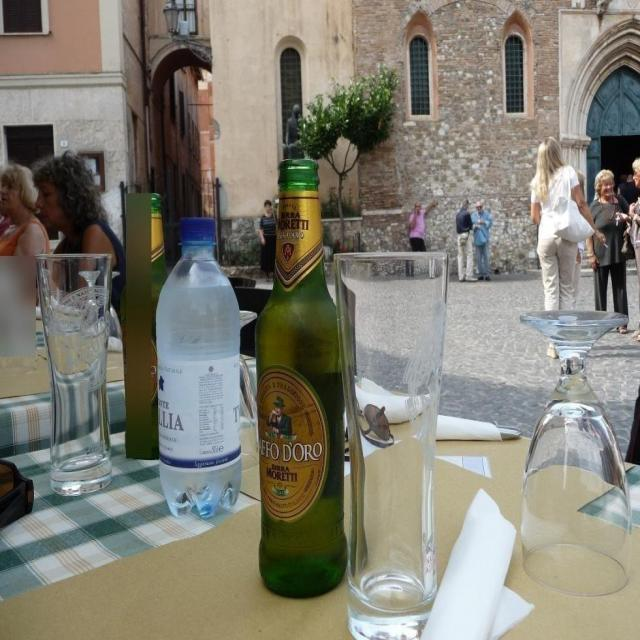bottle-glass: (253, 156, 352, 597)
bottle-plastic: (157, 213, 242, 522)
glass-normal: (332, 247, 451, 638), (35, 252, 117, 496)
glass-wine: (518, 307, 634, 594)
